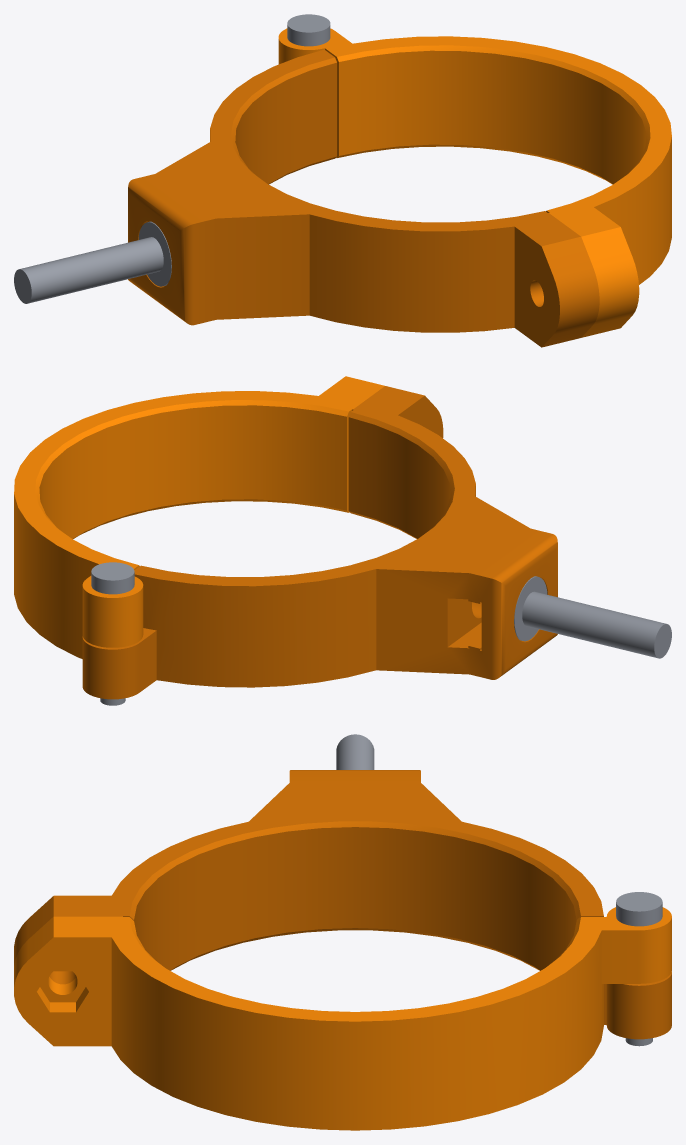
Rendered from attache-gouttiere.glb.
The picture shows the model from 3 angles, top to bottom: view 1: azimuth 30°, elevation 25°; view 2: azimuth 150°, elevation 25°; view 3: azimuth 270°, elevation 25°; orthographic projection. The views are drawn at different scales.
Parts seen in each view (by area): view 1: Corps, Bride, Patte a vis a collerette (reference), Axe de charniere : vis M5 inox; view 2: Corps, Bride, Patte a vis a collerette (reference), Axe de charniere : vis M5 inox; view 3: Bride, Corps, Axe de charniere : vis M5 inox, Patte a vis a collerette (reference).
Boxes of the visible parts, box(x1,y1,x2,y2) form: Corps: box(128, 49, 599, 347); Bride: box(278, 28, 671, 337); Patte a vis a collerette (reference): box(14, 221, 171, 303); Axe de charniere : vis M5 inox: box(287, 14, 330, 46); Corps: box(82, 386, 557, 699); Bride: box(14, 376, 384, 658); Patte a vis a collerette (reference): box(514, 576, 671, 658); Axe de charniere : vis M5 inox: box(91, 562, 134, 705); Bride: box(14, 907, 671, 1130); Corps: box(14, 770, 671, 1039); Axe de charniere : vis M5 inox: box(616, 892, 662, 1046); Patte a vis a collerette (reference): box(336, 734, 374, 769).
Size of the model in its own units: 0.1405 by 0.028 by 0.1204.
